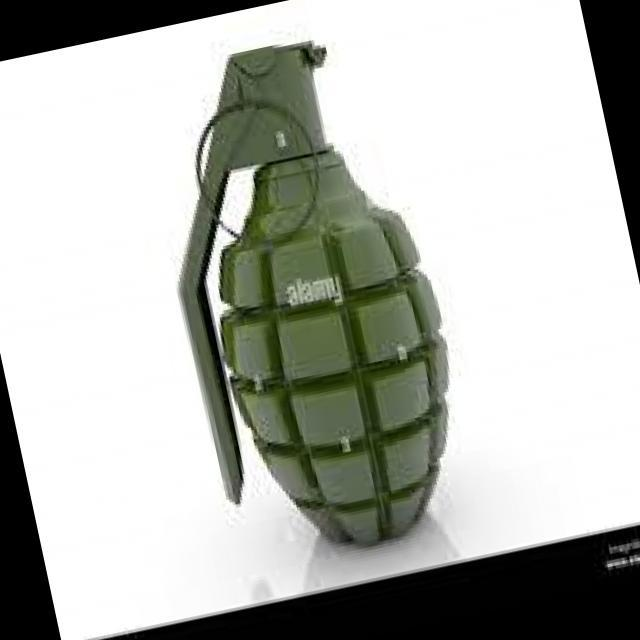grenade: (138, 31, 490, 592)
